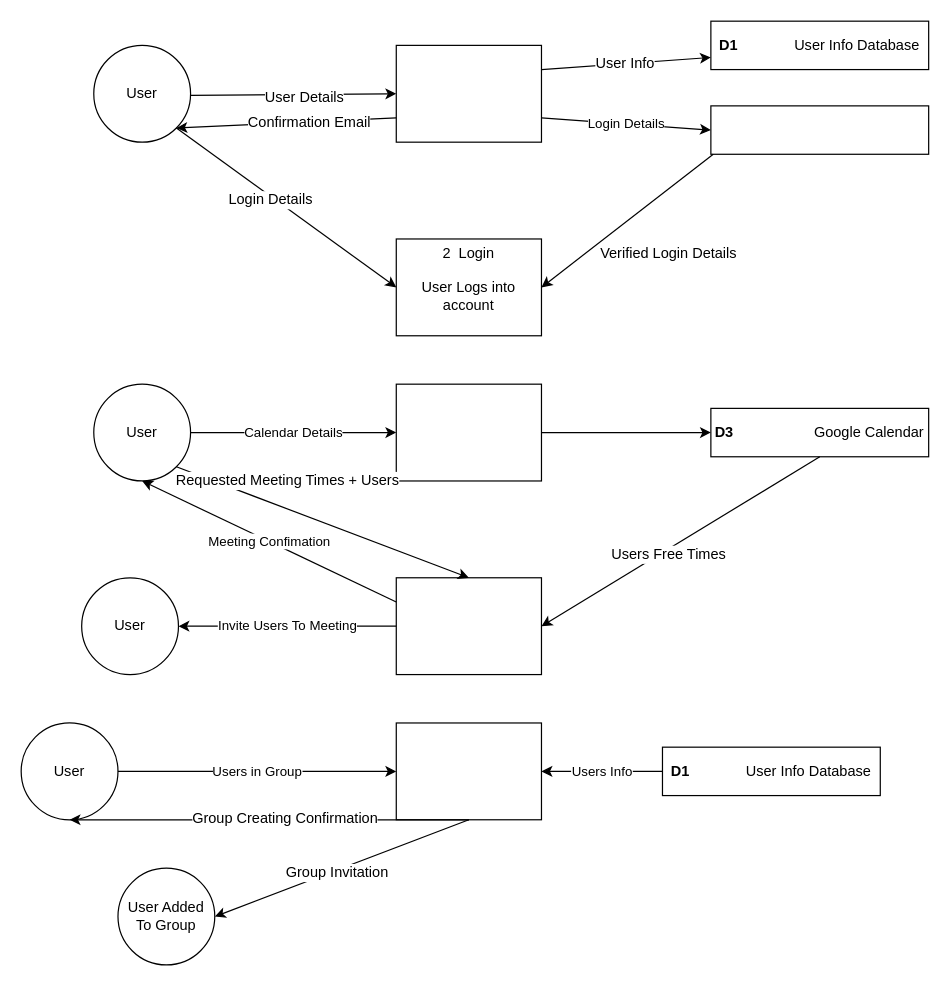
This 950x986 diagram has some shape labels left out. Each missing label, with the centre of its shape:
1 Login Register User: the point at 468,93
3 Calendar Sync Calendar: the point at 468,432
4 System Create meeting: the point at 468,626
5 System Create Group: the point at 468,771
D2 User Login Database: the point at 819,129
